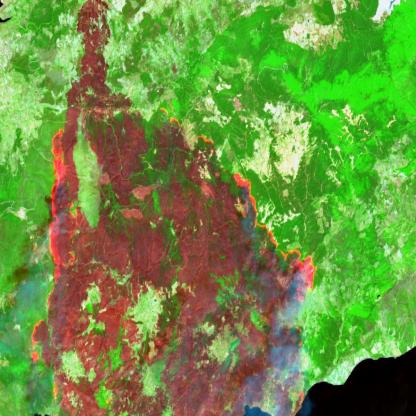fire: (156, 101, 321, 416), (27, 126, 85, 416)
